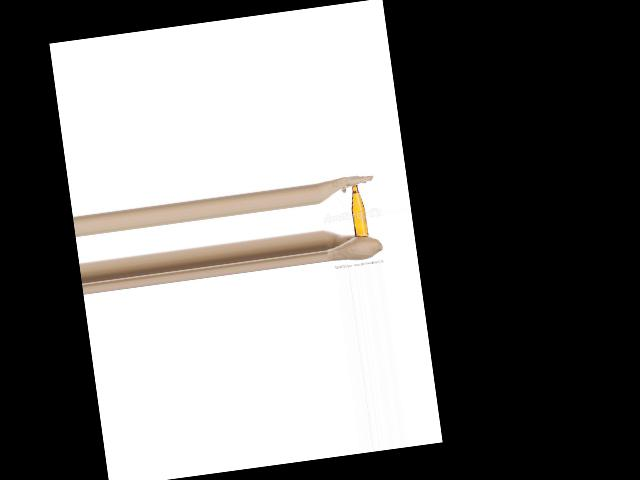beer: (347, 183, 368, 237)
